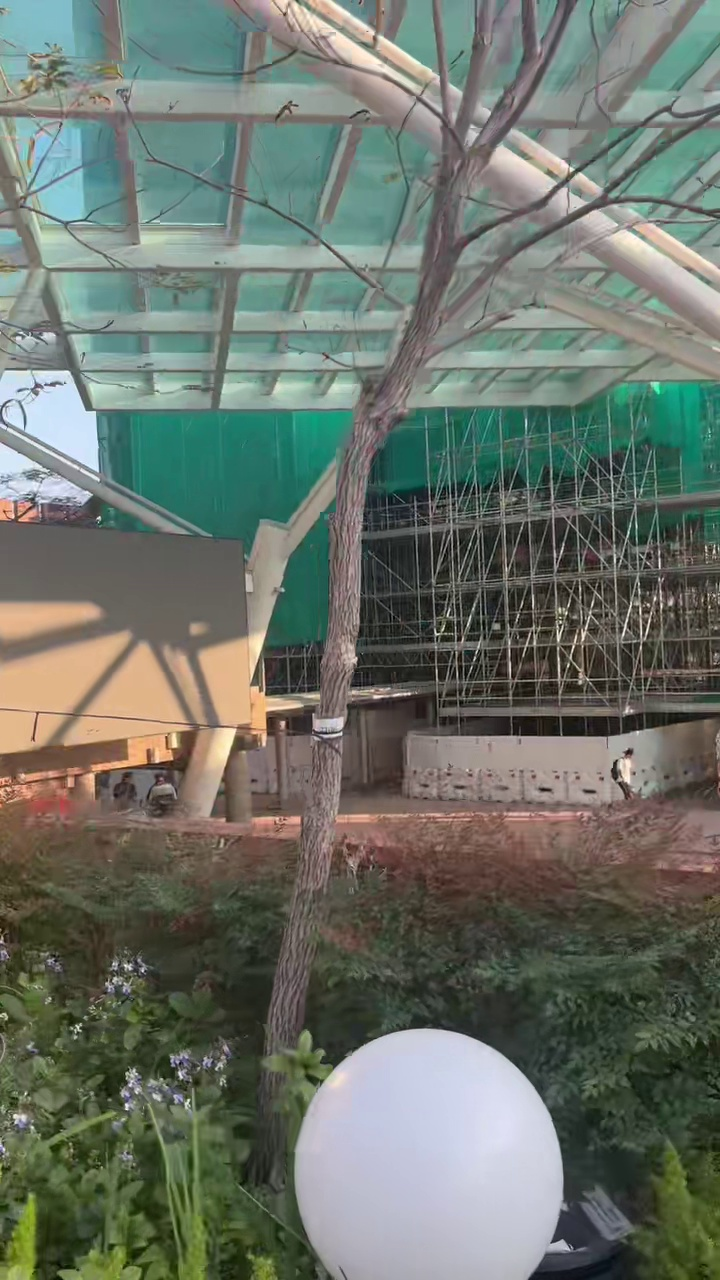Tabebuia chrysantha: (231, 0, 719, 1053)
